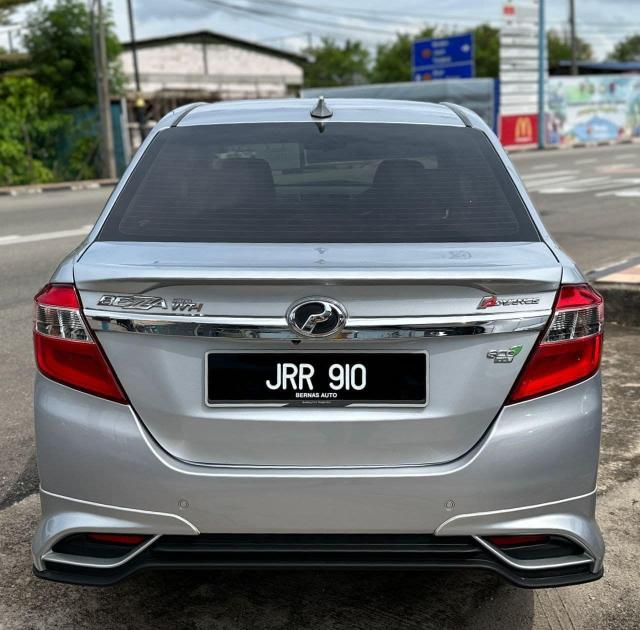License_Plate: (211, 352, 424, 406)
